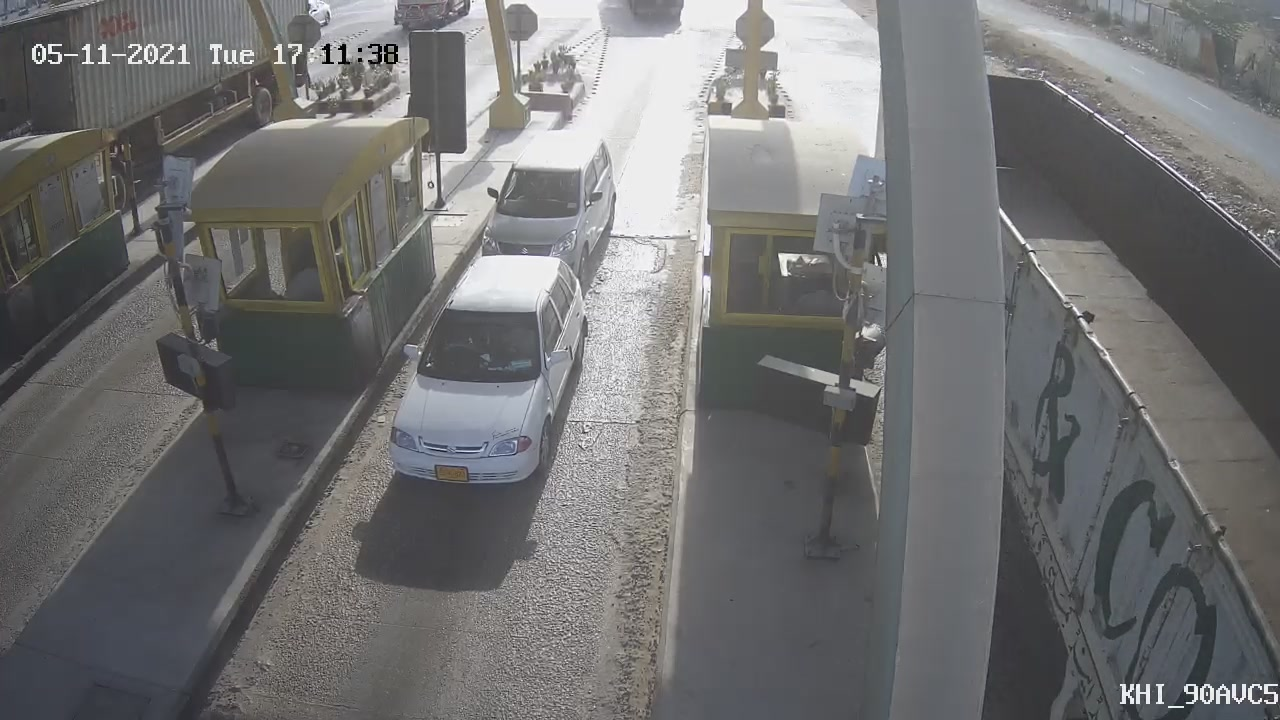F1: (368, 234, 625, 504), (468, 114, 635, 300)
